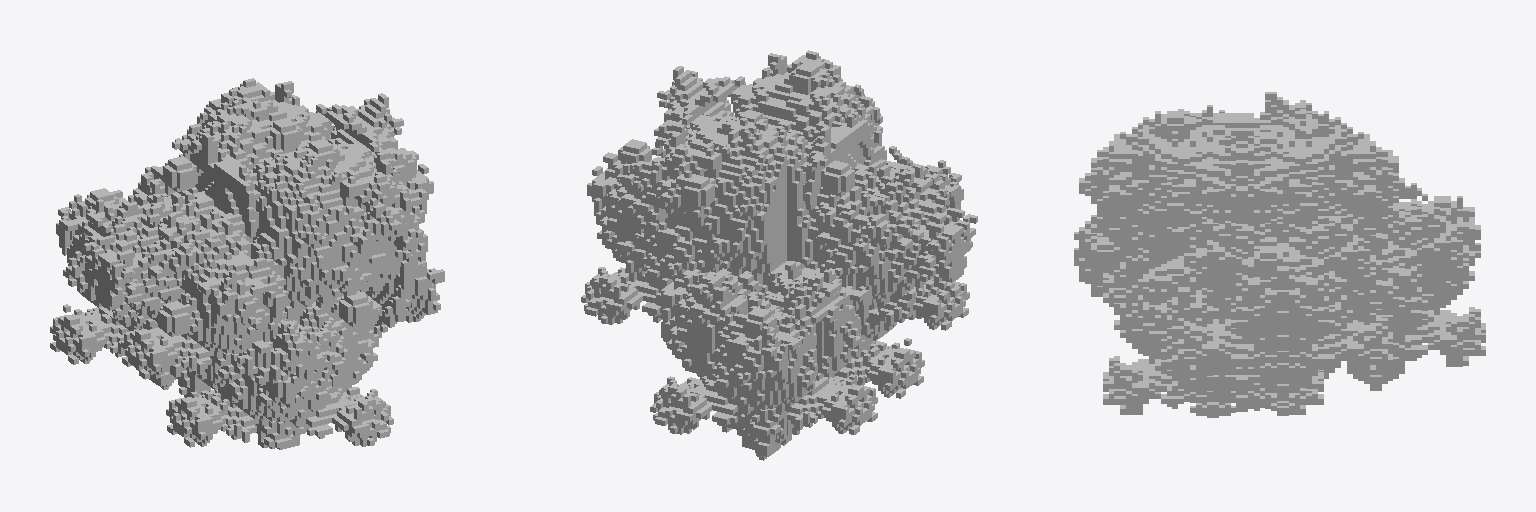
The model's file is bush.vox.obj.
3 renders of one model, left to right at view 1: azimuth 30°, elevation 25°; view 2: azimuth 150°, elevation 25°; view 3: azimuth 270°, elevation 25°, orthographic.
Parts seen in each view (by area): view 1: object 1; view 2: object 1; view 3: object 1.
Part boxes in pixels (left/top/right/bottom): object 1: left=50, top=78, right=444, bottom=449; object 1: left=581, top=50, right=977, bottom=460; object 1: left=1074, top=92, right=1485, bottom=417.
Size of the model in its own units: 6.8 by 5.6 by 7.1.